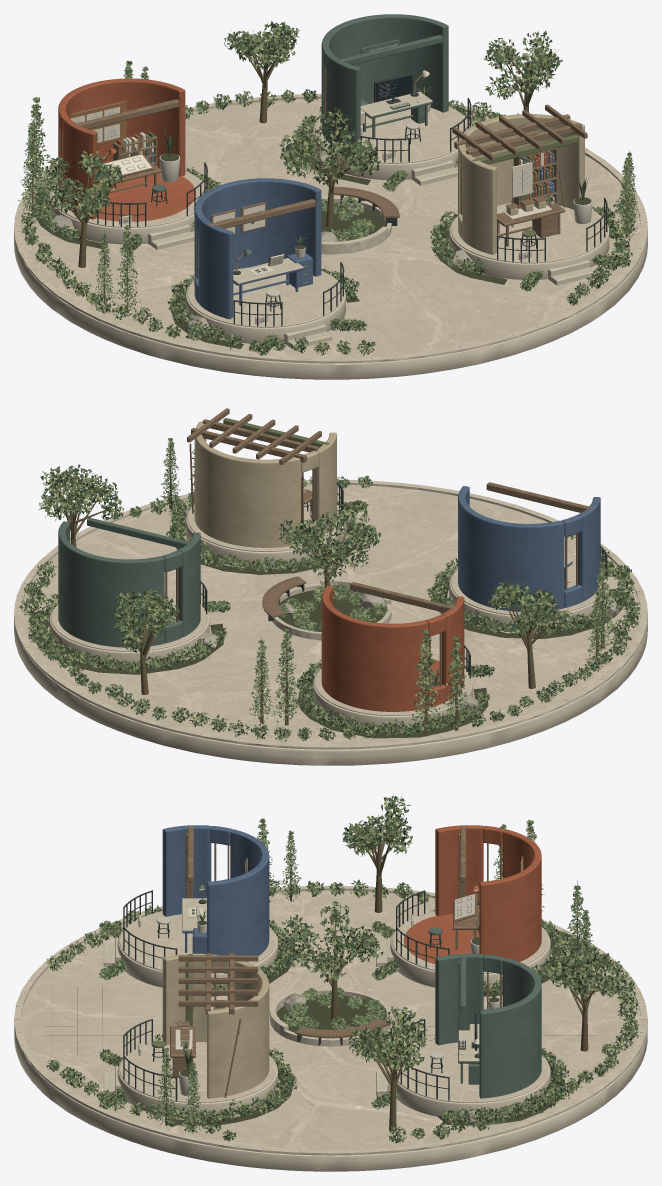
Rendered from island-low.glb.
The picture shows the model from 3 angles, top to bottom: view 1: azimuth 30°, elevation 25°; view 2: azimuth 150°, elevation 25°; view 3: azimuth 270°, elevation 25°; orthographic projection.
Parts seen in each view (by area): view 1: island_foundation, pavilion_evoluir, pavilion_validar, pavilion_gerar, pavilion_especificar, garden_groundcover, central_court, ambient_canopy_central_tree, ambient_canopy_olive_west, ambient_canopy_olive_east, ambient_canopy_olive_north, cypress_1 (+7 smaller); view 2: island_foundation, garden_groundcover, pavilion_evoluir, pavilion_especificar, pavilion_validar, pavilion_gerar, central_court, ambient_canopy_central_tree, ambient_canopy_olive_east, ambient_canopy_olive_north, ambient_canopy_olive_west, cypress_0 (+9 smaller); view 3: island_foundation, pavilion_evoluir, pavilion_gerar, pavilion_especificar, pavilion_validar, garden_groundcover, central_court, ambient_canopy_central_tree, ambient_canopy_olive_east, ambient_canopy_olive_north, ambient_canopy_olive_west, olive_east_wood (+6 smaller).
Boxes of the visible parts, x1,y1,x2,y2 form: island_foundation: [14, 93, 647, 379]; pavilion_evoluir: [449, 104, 609, 285]; pavilion_validar: [185, 178, 345, 349]; pavilion_gerar: [313, 14, 471, 185]; pavilion_especificar: [49, 78, 208, 249]; garden_groundcover: [21, 89, 635, 355]; central_court: [292, 116, 399, 254]; ambient_canopy_central_tree: [279, 107, 380, 185]; ambient_canopy_olive_west: [44, 150, 124, 219]; ambient_canopy_olive_east: [484, 30, 562, 99]; ambient_canopy_olive_north: [224, 21, 299, 69]; cypress_1: [17, 124, 45, 218]; island_foundation: [14, 479, 647, 765]; garden_groundcover: [19, 475, 640, 741]; pavilion_evoluir: [185, 408, 345, 568]; pavilion_especificar: [313, 582, 473, 732]; pavilion_validar: [449, 482, 609, 632]; pavilion_gerar: [49, 517, 209, 667]; central_court: [262, 508, 391, 640]; ambient_canopy_central_tree: [278, 500, 381, 582]; ambient_canopy_olive_east: [39, 464, 123, 520]; ambient_canopy_olive_north: [113, 589, 179, 652]; ambient_canopy_olive_west: [488, 580, 571, 637]; cypress_0: [411, 629, 440, 736]; island_foundation: [14, 885, 647, 1171]; pavilion_evoluir: [103, 953, 277, 1119]; pavilion_gerar: [376, 953, 550, 1119]; pavilion_especificar: [376, 825, 550, 989]; pavilion_validar: [103, 825, 277, 989]; garden_groundcover: [46, 878, 638, 1143]; central_court: [269, 908, 391, 1046]; ambient_canopy_central_tree: [281, 901, 383, 983]; ambient_canopy_olive_east: [348, 1006, 427, 1072]; ambient_canopy_olive_north: [549, 949, 623, 999]; ambient_canopy_olive_west: [342, 796, 412, 856]; olive_east_wood: [369, 1010, 419, 1131].
Size of the model in its own units: 20.01 by 4.59 by 20.01.
Materials: 25 (8 with a texture image).
